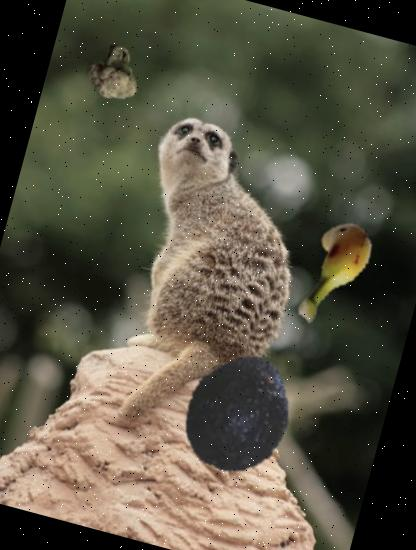Avocado: (160, 336, 310, 486)
Banana: (265, 206, 394, 334)
Cauliflower: (78, 37, 148, 107)
